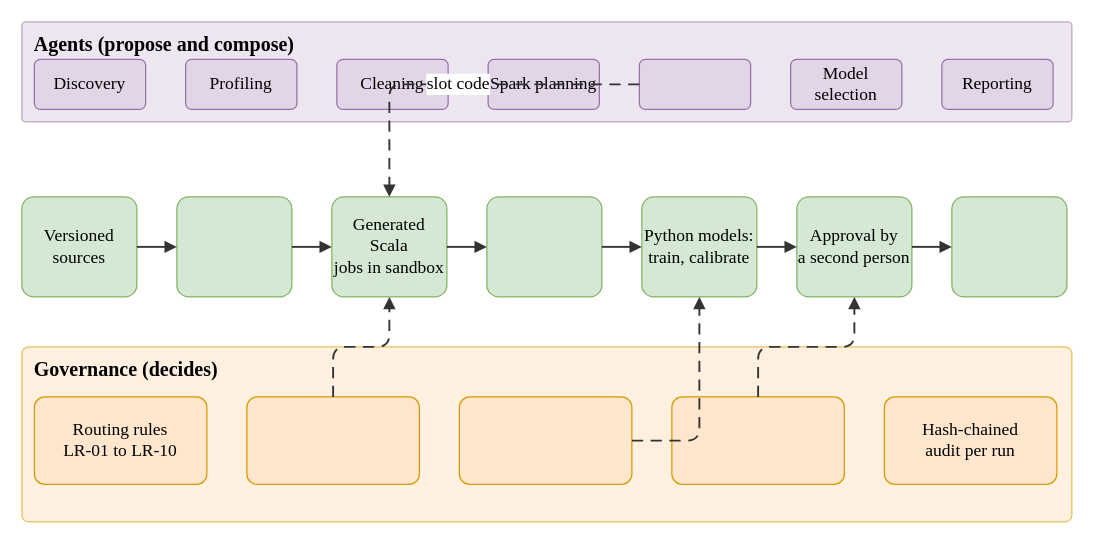
Some shapes in this 1094 by 544 pixel diagram are drawn without their labels. The shapes that lost their labels are listed below. From the top down, each one's centre as x and y in pixels, then its label:
[694,83]: Code generation
[234,246]: Governed ingestion
[544,246]: Point-in-time features, labels
[1009,246]: Champion and scored customers
[332,440]: Nine validation gates
[545,440]: Acceptance policy AP-1 to AP-8
[757,440]: Separation of duties
